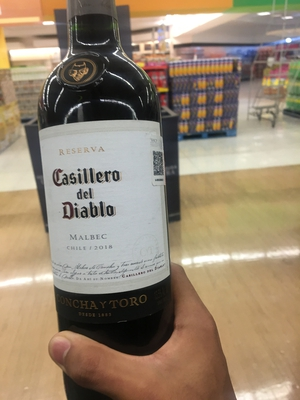casillero del diablo malbec: (29, 6, 189, 370)
